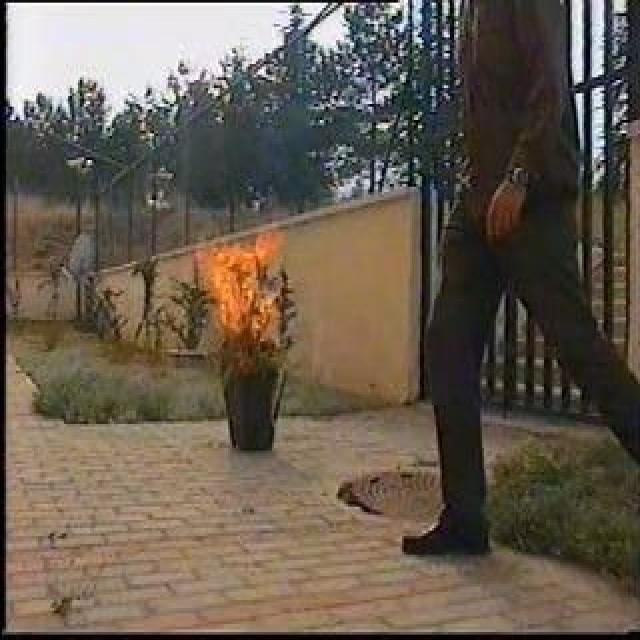fire: (205, 231, 283, 337)
